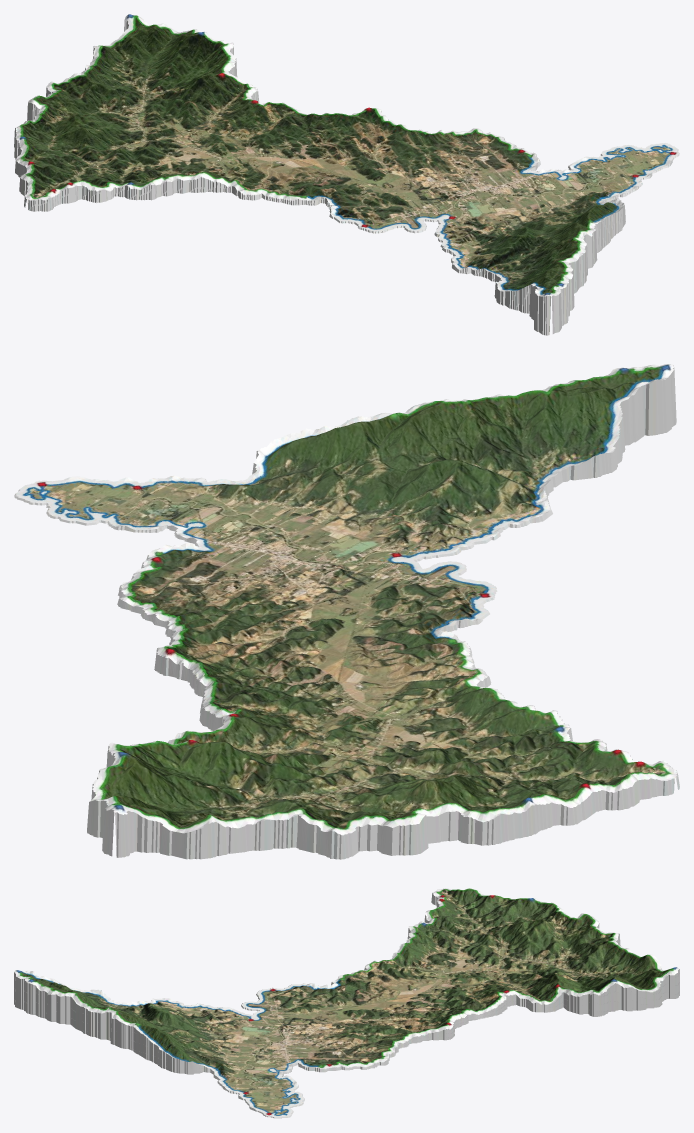
3 renders of one model, top to bottom at view 1: azimuth 30°, elevation 25°; view 2: azimuth 150°, elevation 25°; view 3: azimuth 270°, elevation 25°, orthographic. The views are drawn at different scales.
Bounding box in the file's own units: 0.9991 × 0.0683 × 1.27.
Materials: 1 (1 with a texture image).
